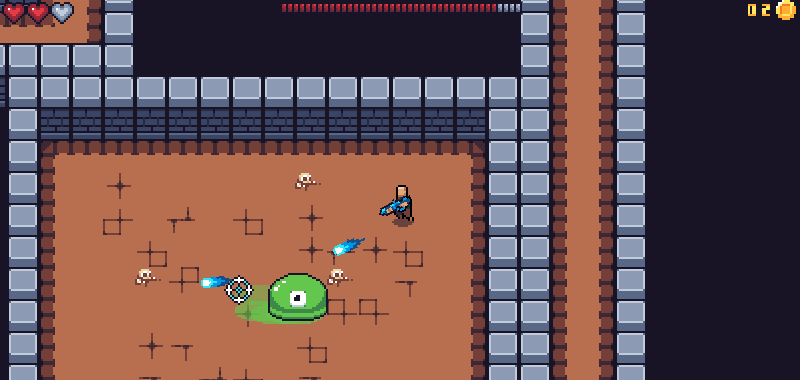enemy_slug_boss: (244, 254, 353, 336)
